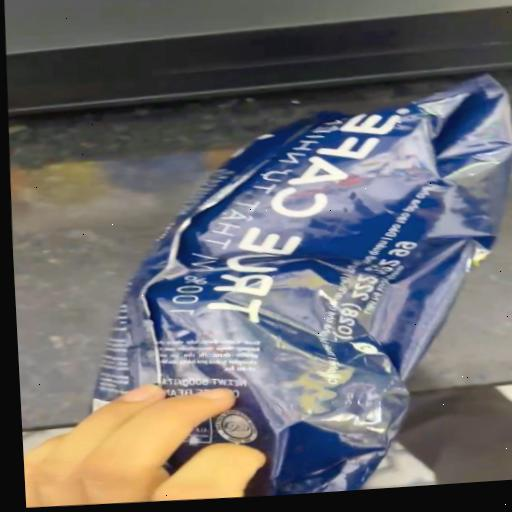cafe_hat: (94, 76, 512, 497)
